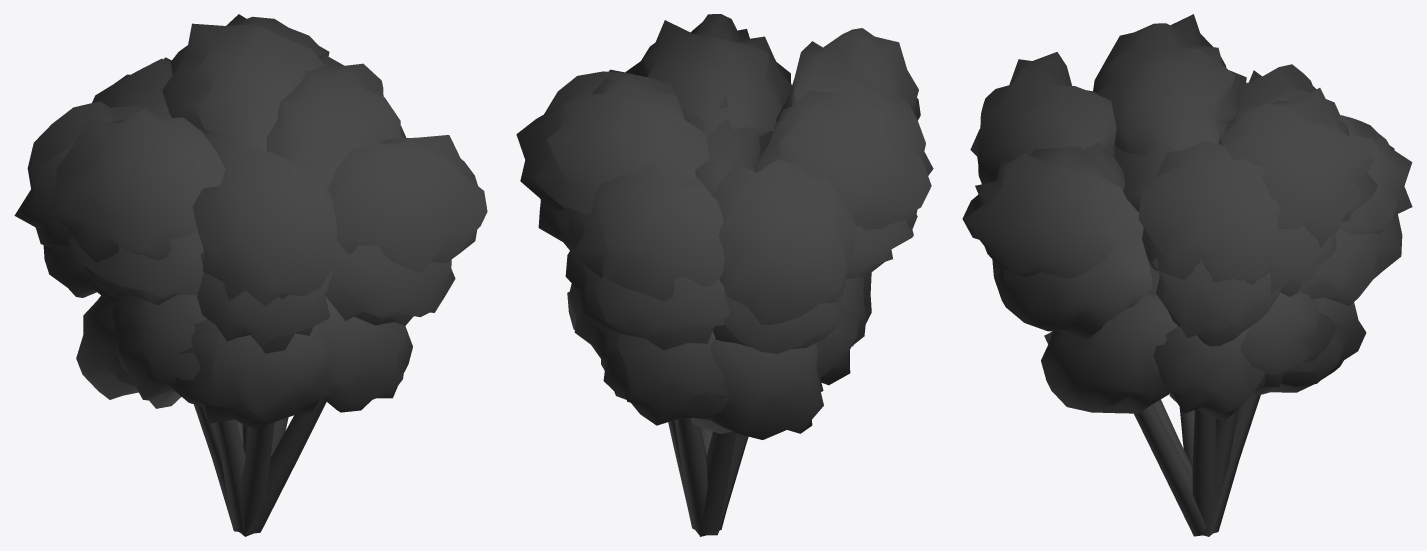
Rendered from taiga_hazel.glb.
The picture shows the model from 3 angles, left to right: view 1: azimuth 30°, elevation 25°; view 2: azimuth 150°, elevation 25°; view 3: azimuth 270°, elevation 25°; orthographic projection. The views are drawn at different scales.
Parts seen in each view (by area): view 1: foliage, bark; view 2: foliage, bark; view 3: foliage, bark.
Boxes of the visible parts, box(x1,y1,x2,y2) form: foliage: box(14, 14, 487, 429); bark: box(194, 400, 326, 536); foliage: box(516, 14, 933, 439); bark: box(668, 418, 748, 536); foliage: box(962, 14, 1412, 420); bark: box(1134, 393, 1260, 536).
Bounding box in the file's own units: 2 × 2.45 × 2.21.
Materials: 1 (1 with a texture image).
